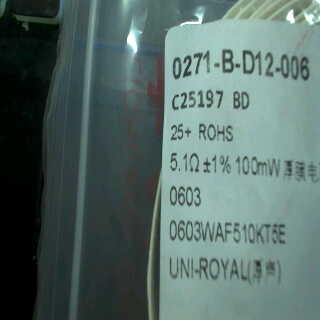5.1R: (166, 147, 203, 176)
